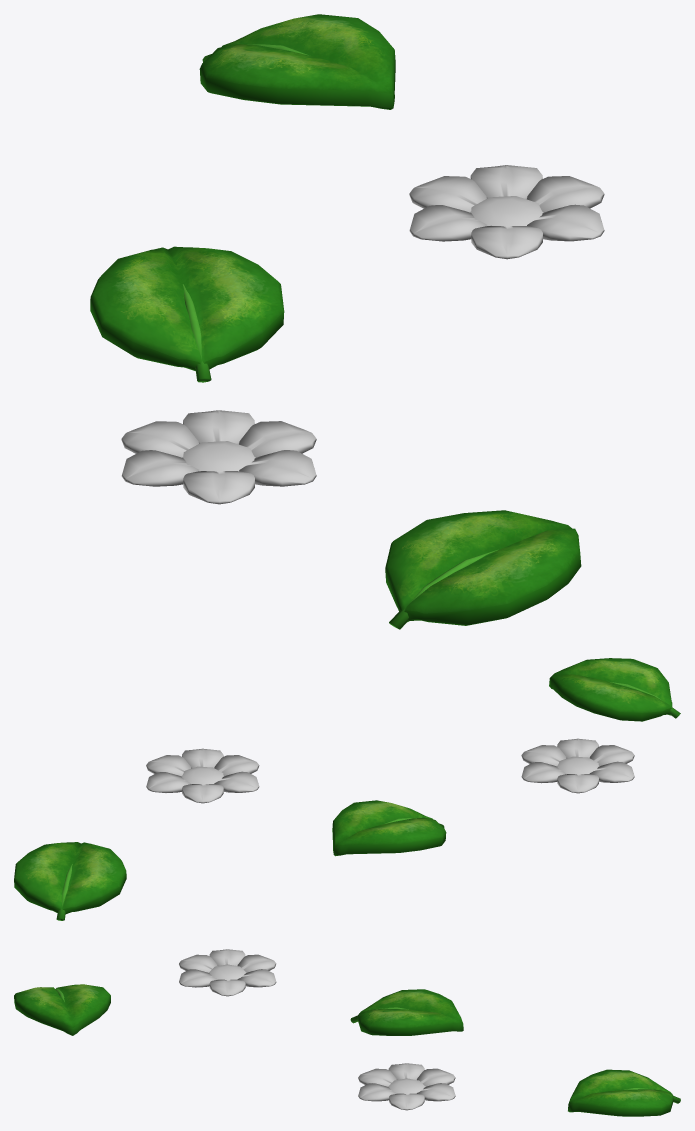
File: PlataformasCratera.fbx
The picture shows the model from 3 angles, top to bottom: view 1: azimuth 30°, elevation 25°; view 2: azimuth 150°, elevation 25°; view 3: azimuth 270°, elevation 25°; orthographic projection. The views are drawn at different scales.
Visible parts, largest first — view 1: PlataformasCratera; view 2: PlataformasCratera; view 3: PlataformasCratera.
Part boxes in pixels (x1,y1,x2,y2): PlataformasCratera: [90, 14, 604, 629]; PlataformasCratera: [14, 658, 680, 920]; PlataformasCratera: [14, 949, 680, 1116].
Bounding box in the file's own units: 607 × 51.29 × 1070.
